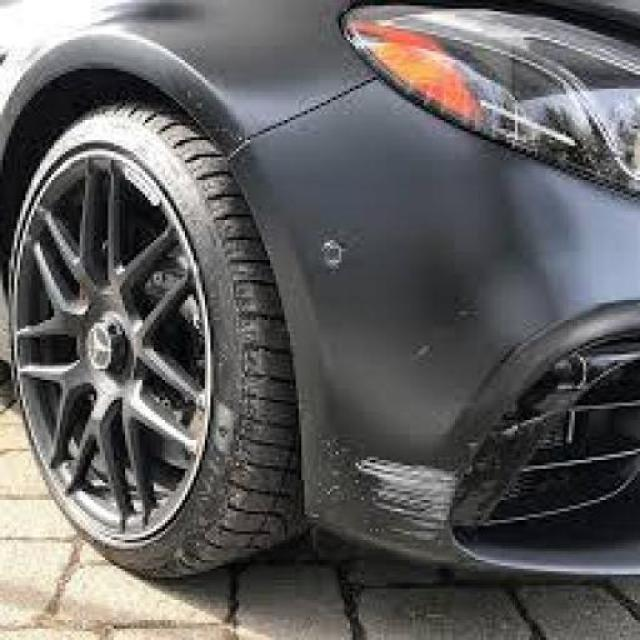scratch: (350, 457, 461, 551)
